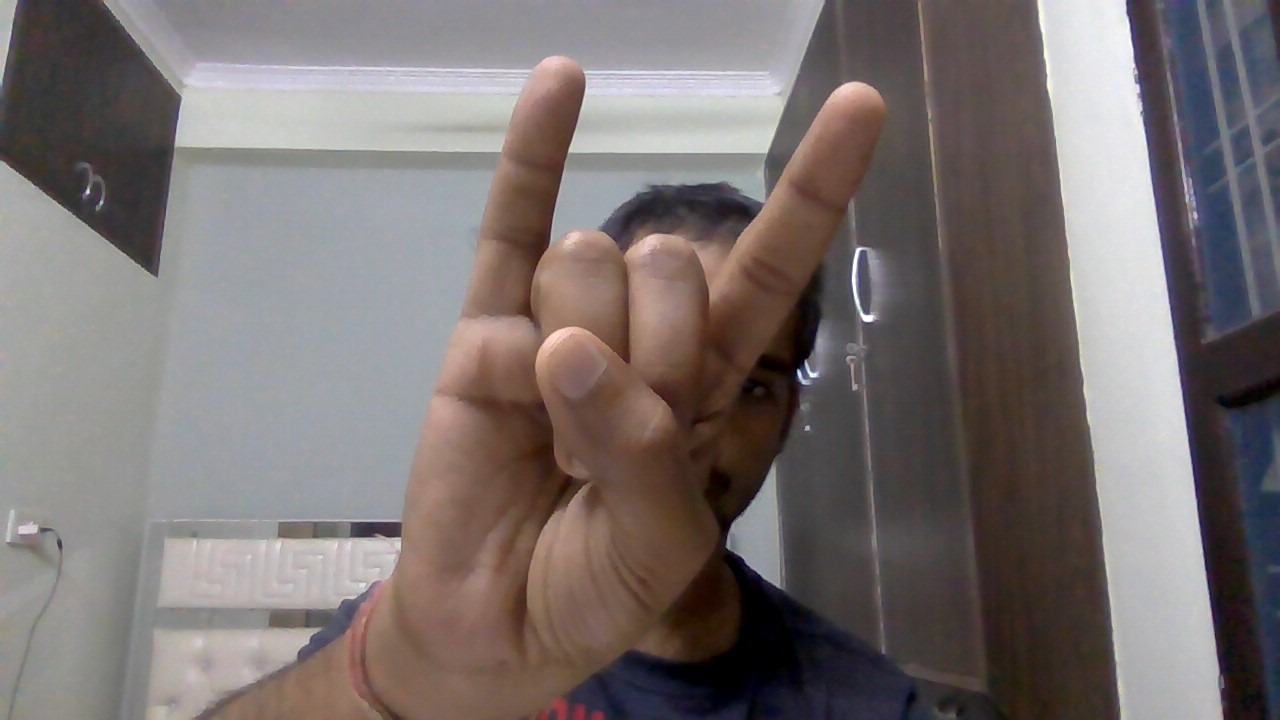Select All: (392, 41, 896, 706)
